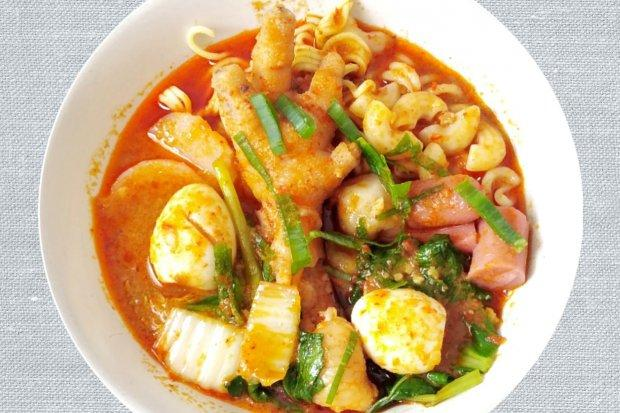seblak: (90, 5, 531, 413)
